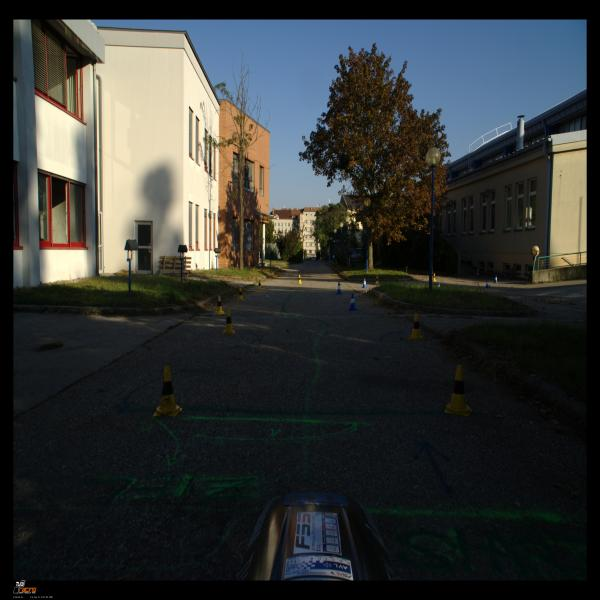blue_cone: (348, 293, 357, 311), (336, 282, 342, 294), (362, 278, 367, 288), (484, 280, 490, 288), (494, 275, 498, 283)
large_orange_cone: (476, 267, 480, 278), (432, 266, 434, 276)
yellow_cone: (153, 366, 182, 417), (444, 365, 472, 417), (408, 313, 424, 341), (222, 309, 236, 334), (214, 296, 225, 314), (237, 287, 244, 301), (257, 280, 262, 290), (297, 274, 302, 284), (375, 276, 379, 284), (432, 274, 436, 282)
